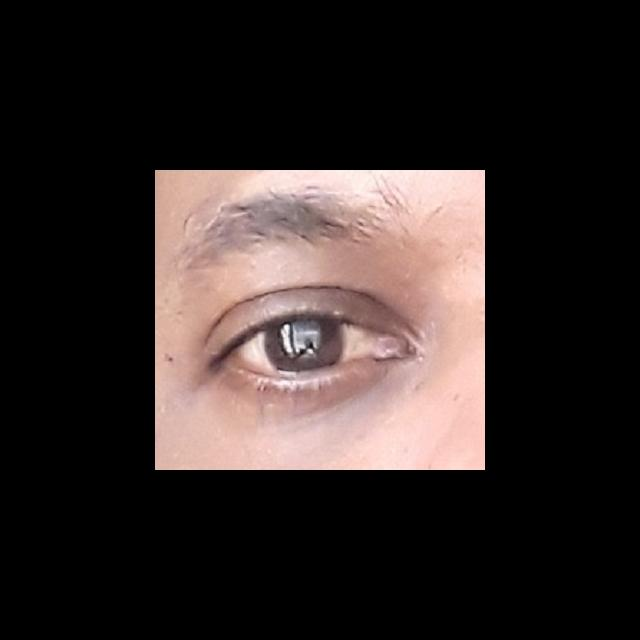eye: (236, 316, 379, 372)
iris: (264, 318, 342, 369)
